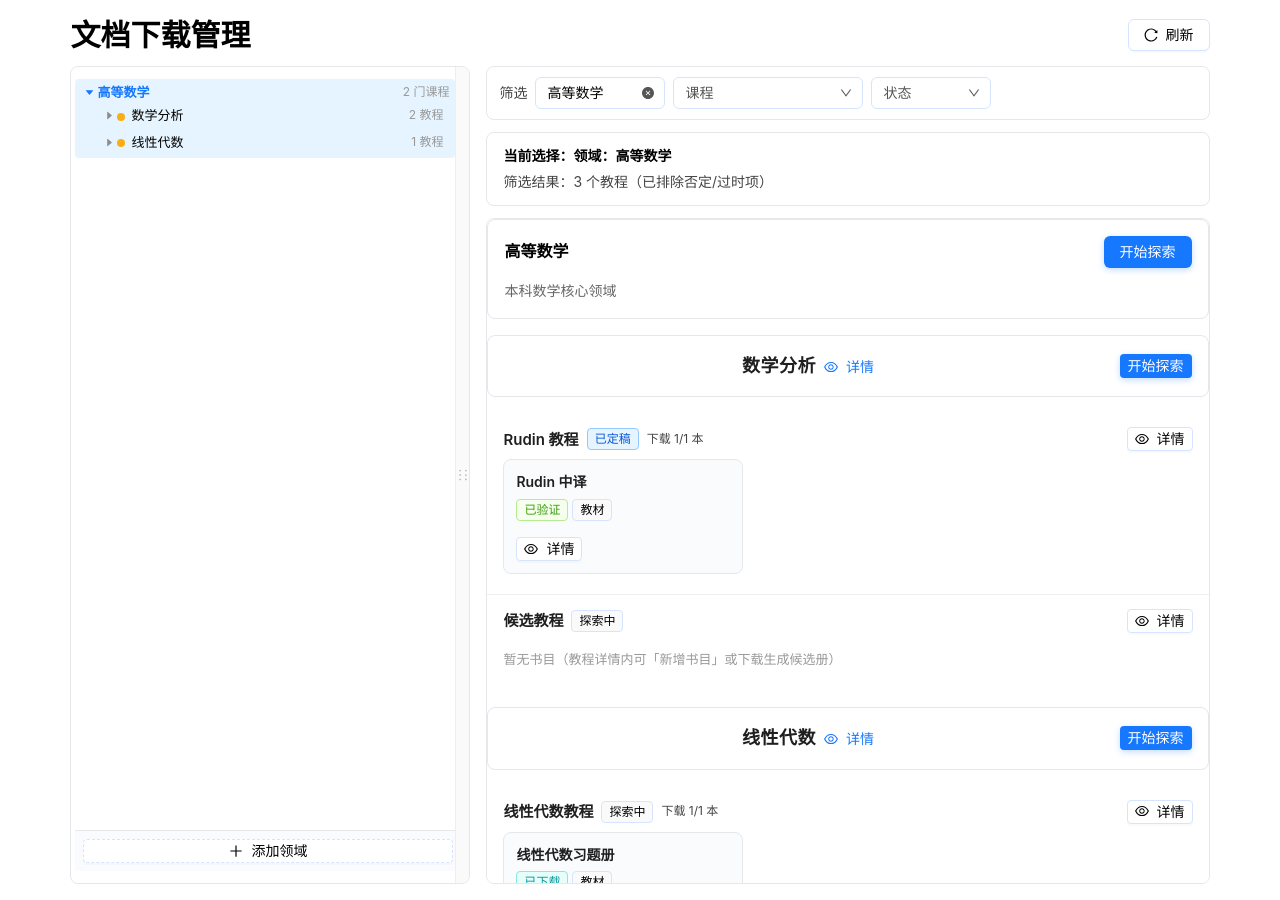
Test case: 文档下载管理 Downloads v2（真实领域课程体系，2026-08-24 REQ-059） › 领域可折叠：点击领域折叠箭头后隐藏课程，再点恢复
expect the text "数学分析" is shown: met, box left=117, top=107, right=183, bottom=123
What coordinates should you click on to do the following:
click the 1st element with class "dl-tree-caret"
I would click on:
 (89, 92)
Its box is left=84, top=87, right=95, bottom=98.
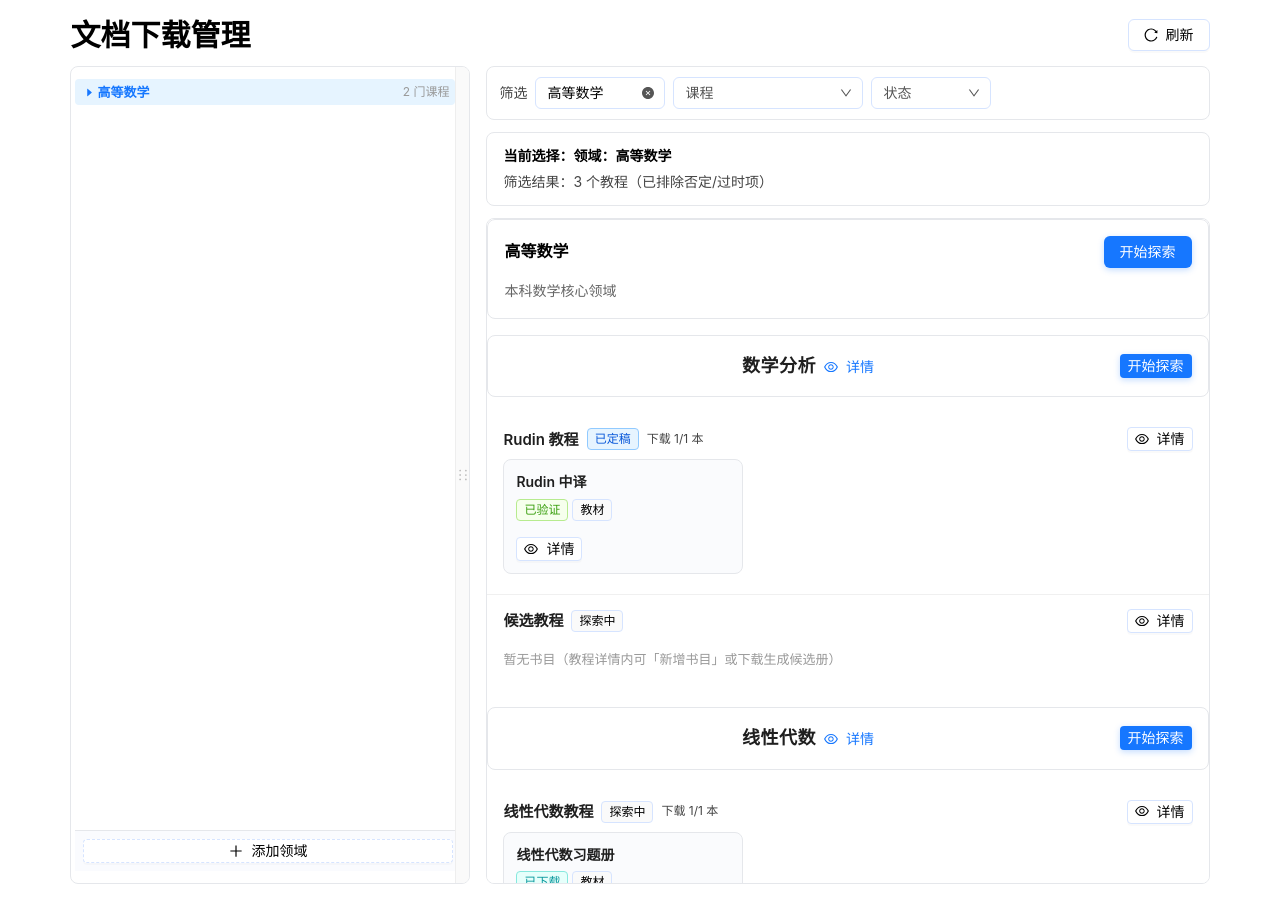
What coordinates should you click on to do the following:
click the element with class "dl-tree-caret"
I would click on:
 (89, 92)
Its box is left=84, top=87, right=95, bottom=98.
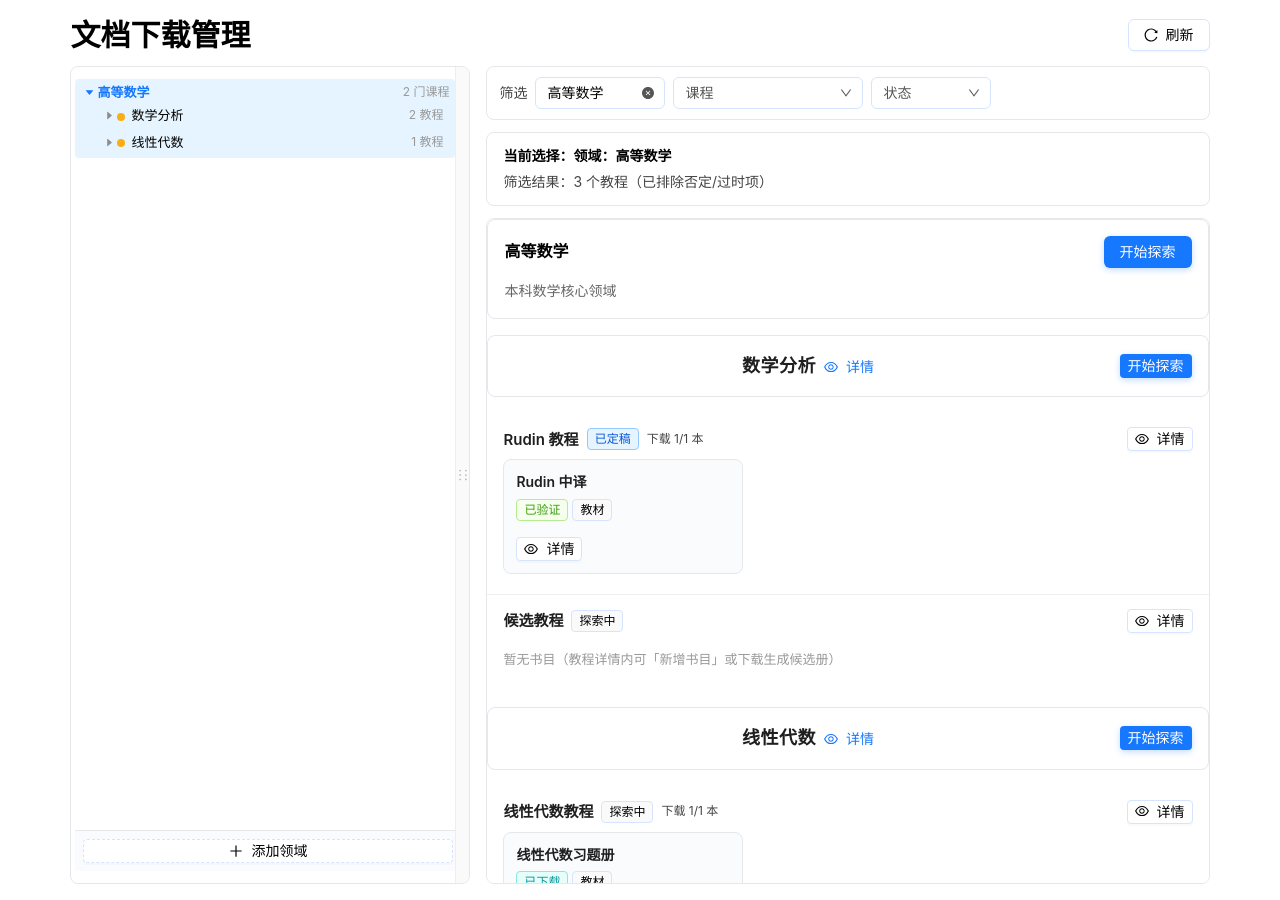
expect the text "数学分析" is shown: met, box left=117, top=107, right=183, bottom=123
